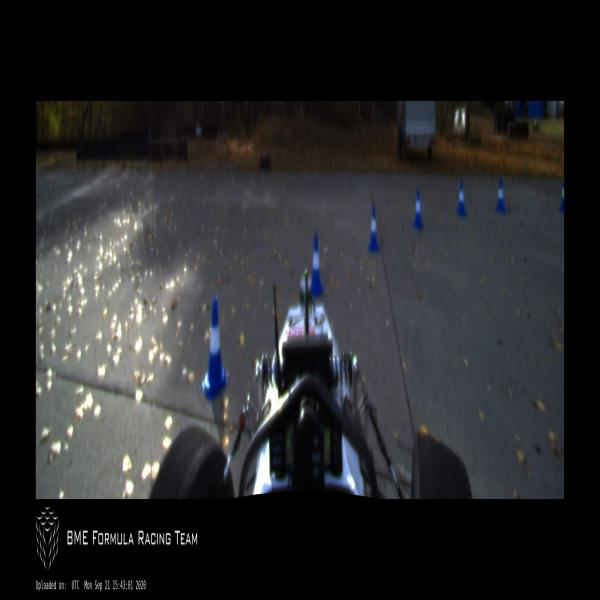blue_cone: (202, 298, 229, 402), (308, 233, 324, 298), (368, 205, 379, 251), (412, 189, 424, 226), (495, 178, 506, 213), (456, 182, 467, 216), (558, 178, 564, 214)
